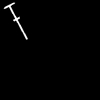double_crochet: (4, 3, 26, 38)
